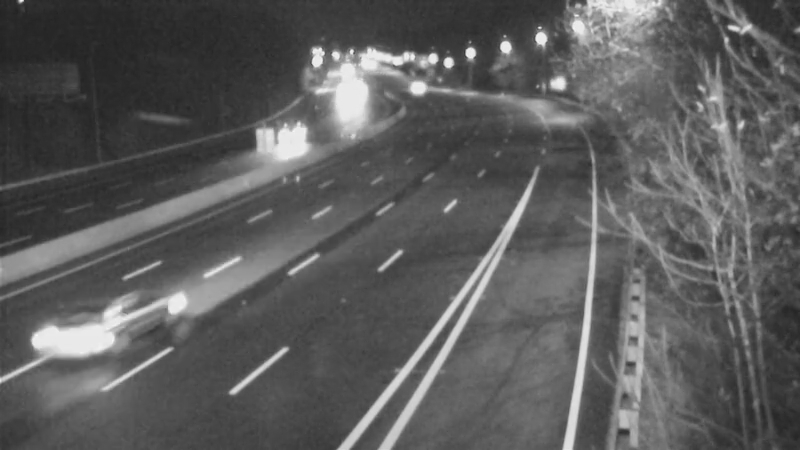vehicle: (38, 273, 148, 383), (391, 60, 441, 110), (269, 117, 319, 167), (320, 88, 370, 138)
